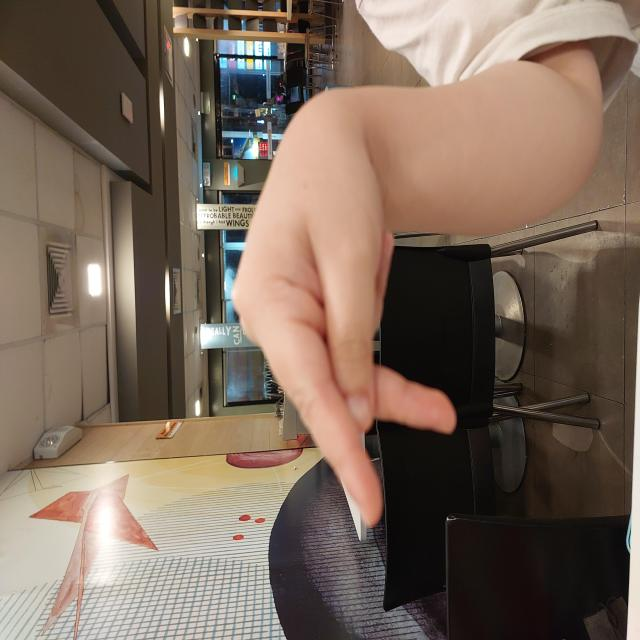P: (110, 230, 504, 459)
